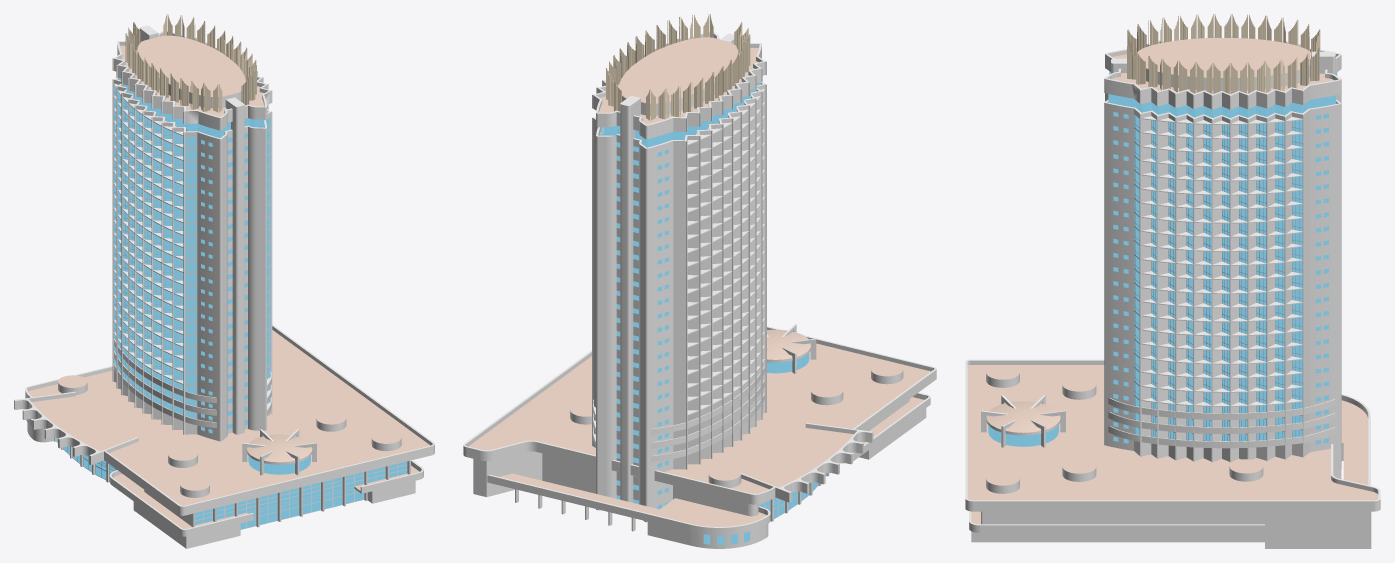
Rendered from gost-kazakh2.glb.
3 views of the same model, side by side, from view 1: azimuth 30°, elevation 25°; view 2: azimuth 150°, elevation 25°; view 3: azimuth 270°, elevation 25° (orthographic). The views are drawn at different scales.
Visible parts, largest first — view 1: 1172723, 1182863, 667172, Компонент#7, Компонент#1.009, Компонент#7.001, Компонент#1.008, Компонент#1.007, 1005980, Компонент#1.006, Компонент#1.005, Компонент#1.004 (+42 smaller); view 2: 1172723, 1182863, 667172, Компонент#7, Компонент#7.001, Компонент#2.014, Компонент#2.016, Компонент#2.012, Компонент#2.018, Компонент#2.015, Компонент#2.017, Компонент#2.019 (+26 smaller); view 3: 1172723, 1182863, Компонент#7.001, Компонент#7, Компонент#5.006, Компонент#1.011, Компонент#1.018, Компонент#1.015, 1005980, Компонент#1.010, Компонент#1.017, Компонент#2.043 (+59 smaller).
Part boxes in pixels (bbox=[...]): 1172723: bbox=[14, 324, 434, 515]; 1182863: bbox=[26, 419, 423, 548]; 667172: bbox=[139, 25, 244, 434]; Компонент#7: bbox=[112, 38, 232, 130]; Компонент#1.009: bbox=[185, 136, 197, 419]; Компонент#7.001: bbox=[154, 31, 272, 119]; Компонент#1.008: bbox=[173, 132, 183, 417]; Компонент#1.007: bbox=[163, 127, 172, 410]; 1005980: bbox=[246, 434, 312, 474]; Компонент#1.006: bbox=[153, 122, 161, 405]; Компонент#1.005: bbox=[144, 116, 151, 399]; Компонент#1.004: bbox=[136, 111, 142, 393]; 1172723: bbox=[463, 326, 936, 504]; 1182863: bbox=[473, 392, 930, 548]; 667172: bbox=[620, 33, 734, 502]; Компонент#7: bbox=[633, 40, 766, 139]; Компонент#7.001: bbox=[592, 31, 720, 127]; Компонент#2.014: bbox=[633, 277, 766, 355]; Компонент#2.016: bbox=[633, 304, 766, 382]; Компонент#2.012: bbox=[633, 250, 766, 328]; Компонент#2.018: bbox=[633, 331, 766, 409]; Компонент#2.015: bbox=[633, 291, 766, 368]; Компонент#2.017: bbox=[633, 318, 766, 395]; Компонент#2.019: bbox=[633, 345, 766, 422]; 1172723: bbox=[965, 359, 1380, 511]; 1182863: bbox=[969, 394, 1371, 548]; Компонент#7.001: bbox=[1104, 57, 1341, 110]; Компонент#7: bbox=[1105, 36, 1341, 72]; Компонент#5.006: bbox=[1104, 431, 1341, 462]; Компонент#1.011: bbox=[1292, 120, 1302, 437]; Компонент#1.018: bbox=[1256, 123, 1266, 440]; Компонент#1.015: bbox=[1275, 122, 1284, 439]; 1005980: bbox=[986, 401, 1060, 446]; Компонент#1.010: bbox=[1239, 124, 1247, 441]; Компонент#1.017: bbox=[1203, 124, 1211, 441]; Компонент#2.043: bbox=[1104, 149, 1341, 180].
Bounding box in the file's own units: 77.36 × 103 × 88.2.
